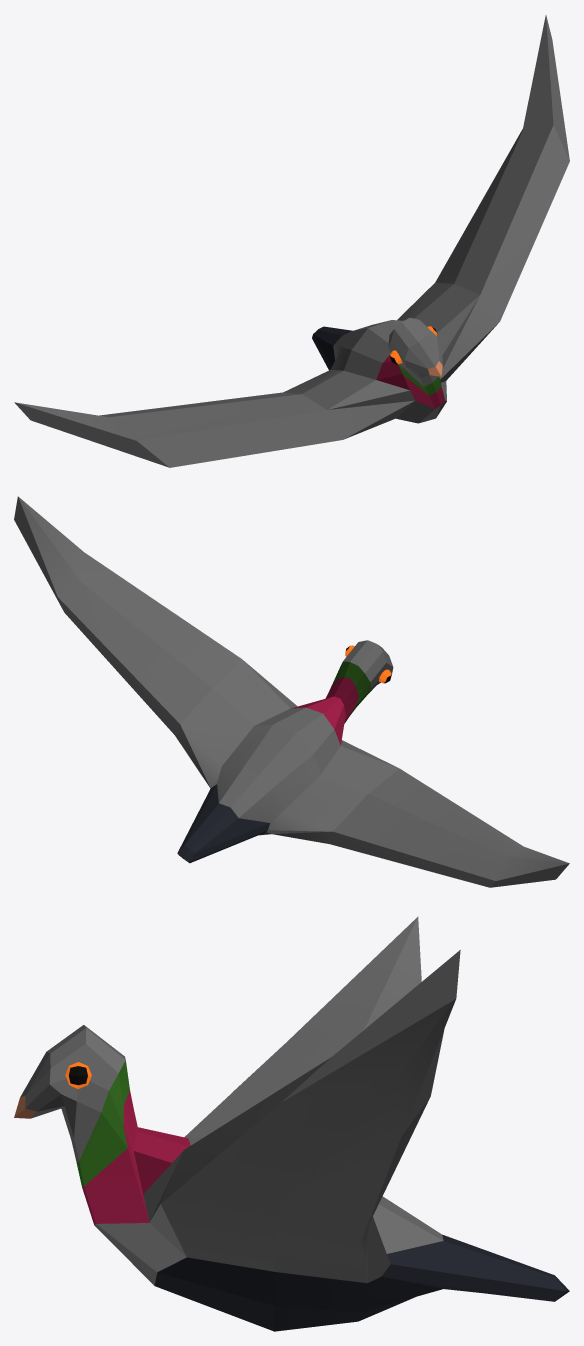
The model's file is PIGEON.fbx.
3 renders of one model, top to bottom at view 1: azimuth 30°, elevation 25°; view 2: azimuth 150°, elevation 25°; view 3: azimuth 270°, elevation 25°, orthographic. The views are drawn at different scales.
Visible parts, largest first — view 1: PIGEON; view 2: PIGEON; view 3: PIGEON.
Part boxes in pixels (box(x1,y1,x2,y2)): PIGEON: box(14, 15, 569, 467); PIGEON: box(14, 496, 569, 887); PIGEON: box(14, 916, 569, 1331).
Size of the model in its own units: 115 by 62.53 by 58.18.
